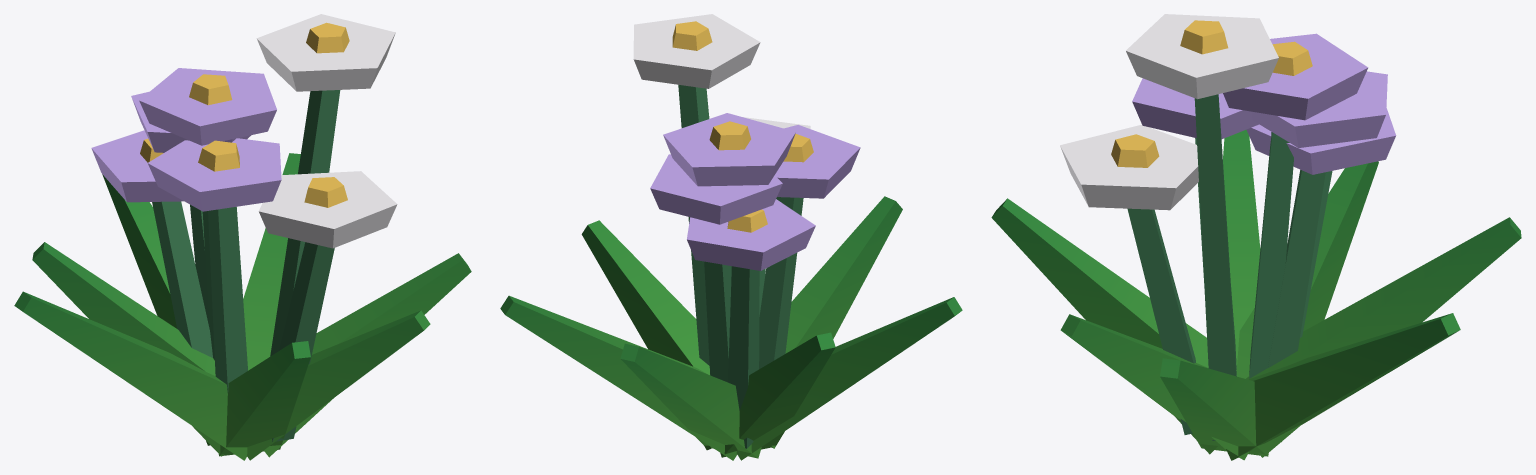
The model's file is flowers_purple.b1542fbb86.gltf.
3 renders of one model, left to right at view 1: azimuth 30°, elevation 25°; view 2: azimuth 150°, elevation 25°; view 3: azimuth 270°, elevation 25°, orthographic. The views are drawn at different scales.
Parts seen in each view (by area): view 1: flowers_purple; view 2: flowers_purple; view 3: flowers_purple.
Part boxes in pixels (left/top/right/bottom): flowers_purple: left=14, top=14, right=471, bottom=460; flowers_purple: left=500, top=14, right=962, bottom=460; flowers_purple: left=991, top=14, right=1521, bottom=460.
Size of the model in its own units: 0.4644 by 0.4313 by 0.4572.
1 material, 1 textured.
